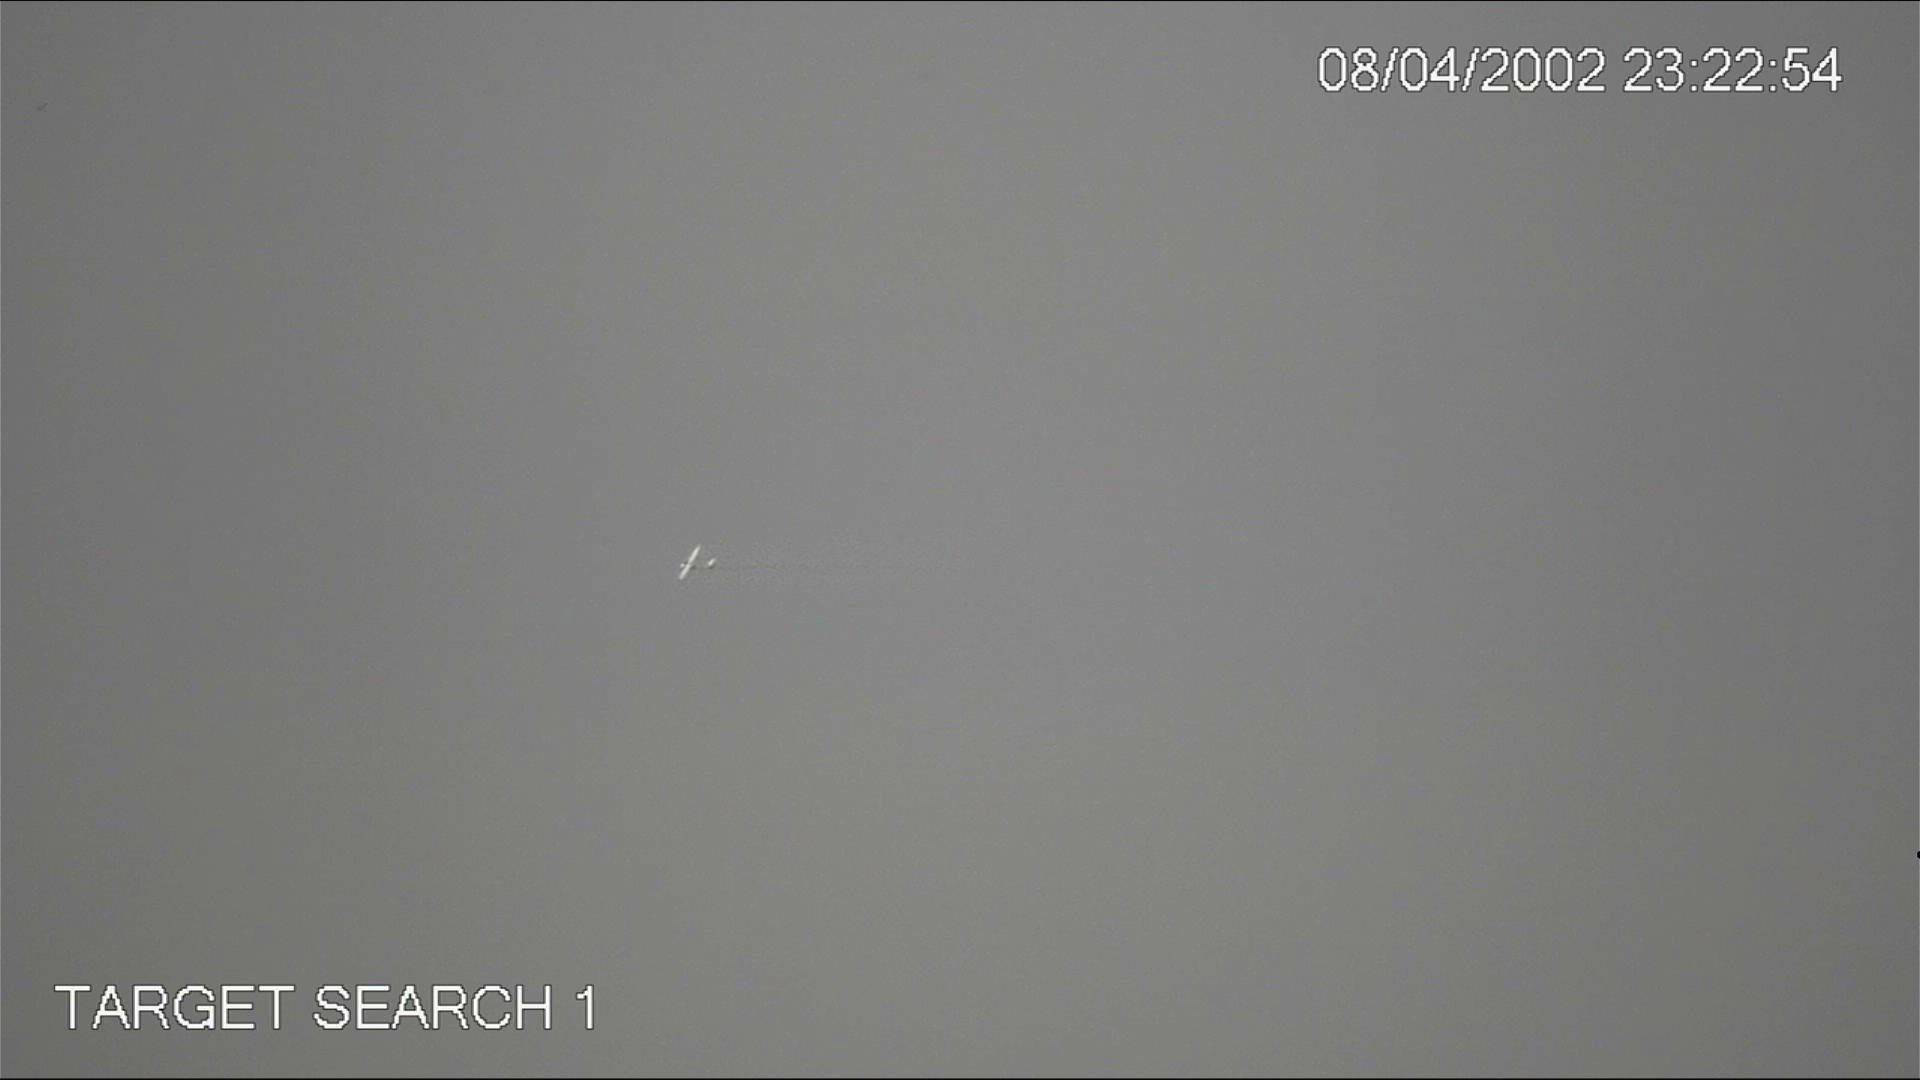SU_30: (673, 545, 716, 582)
